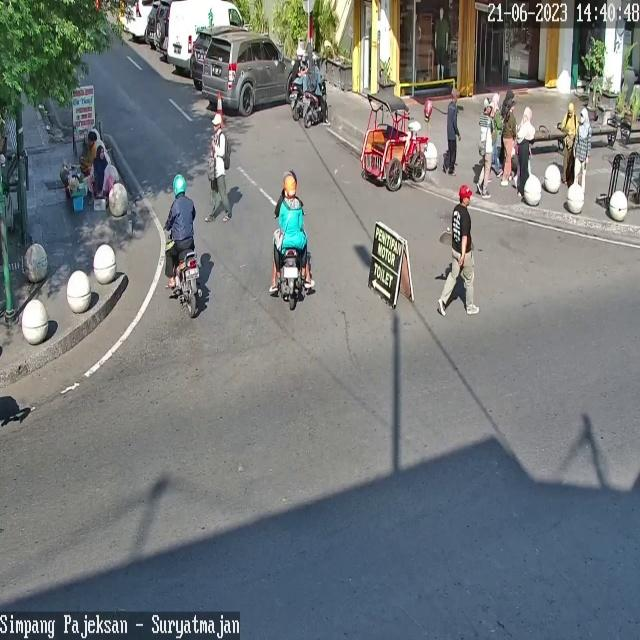bus: (175, 251, 202, 316), (280, 245, 306, 312), (301, 74, 327, 128), (290, 82, 303, 119)
motorcycle: (201, 30, 293, 116), (166, 0, 245, 67), (122, 0, 153, 37), (191, 28, 211, 82)
